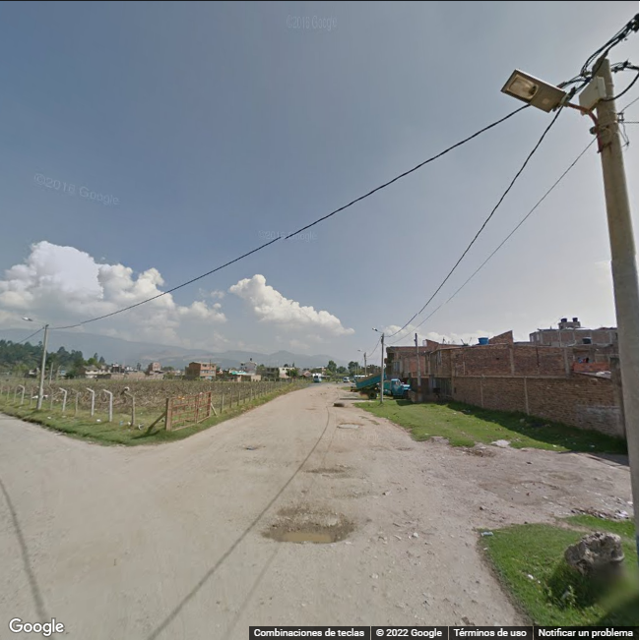D40: (258, 515, 352, 548)
